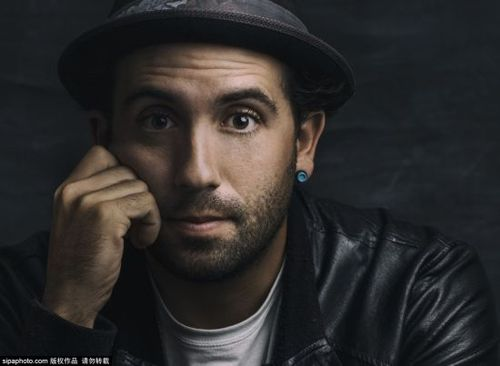no_mask: (110, 42, 301, 275)
